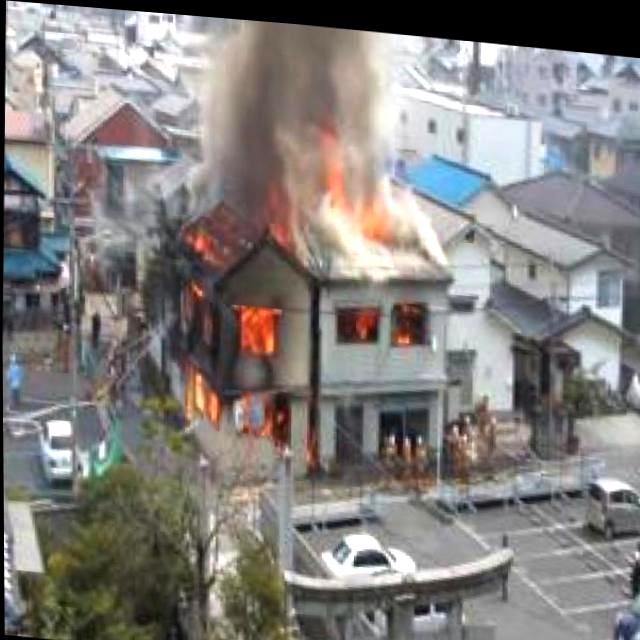fire: (180, 232, 288, 440), (334, 289, 430, 351)
